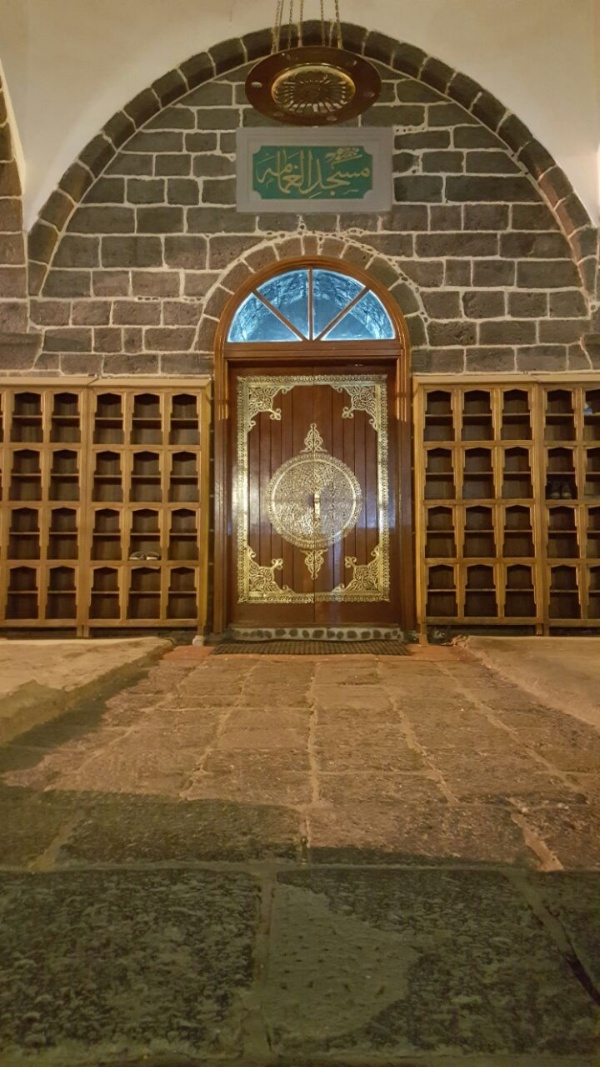text: (257, 148, 272, 196), (273, 148, 288, 196), (289, 148, 304, 196), (321, 158, 336, 200), (337, 158, 352, 200), (353, 158, 368, 200), (305, 148, 315, 196), (316, 158, 320, 200), (369, 158, 372, 200)
